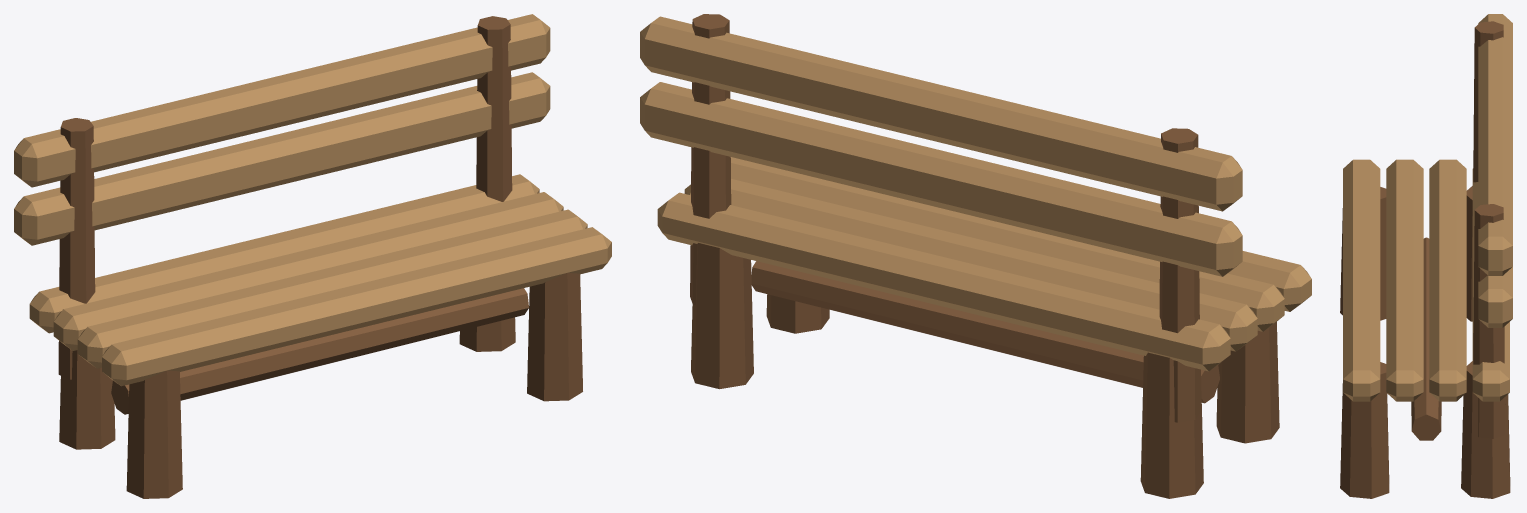
The model's file is CC_RestBench.fbx.
3 renders of one model, left to right at view 1: azimuth 30°, elevation 25°; view 2: azimuth 150°, elevation 25°; view 3: azimuth 270°, elevation 25°, orthographic. The views are drawn at different scales.
Visible parts, largest first — view 1: Back slat.003, Back slat.002, Plank.036, Plank.037, Plank.038, Plank.039, Brace.008, Leg.048, Leg.050, Back post, Back post.001, Leg.049 (+1 smaller); view 2: Back slat.003, Back slat.002, Plank.039, Plank.038, Brace.008, Plank.037, Leg.051, Leg.049, Leg.048, Back post, Back post.001, Plank.036 (+1 smaller); view 3: Plank.037, Plank.038, Plank.036, Back slat.003, Leg.050, Leg.051, Back post.001, Brace.008, Plank.039, Back slat.002, Back post, Leg.048 (+1 smaller).
Boxes of the visible parts, x1,y1,x2,y2 form: Back slat.003: (14,14,550,187); Back slat.002: (14,72,550,245); Plank.036: (102,227,611,386); Plank.037: (77,209,587,368); Plank.038: (53,192,563,350); Plank.039: (29,174,539,333); Brace.008: (111,288,528,414); Leg.048: (126,370,182,498); Leg.050: (527,273,582,401); Back post: (58,118,95,379); Back post.001: (476,16,512,201); Leg.049: (59,350,115,449); Back slat.003: (640,16,1242,211); Back slat.002: (640,82,1242,276); Plank.039: (657,192,1230,371); Plank.038: (684,179,1257,351); Brace.008: (751,261,1219,403); Plank.037: (730,157,1284,331); Leg.051: (691,243,753,389); Leg.049: (1140,352,1203,498); Leg.048: (1216,322,1279,443); Back post: (1159,128,1200,422); Back post.001: (690,14,731,305); Plank.036: (1228,251,1311,311); Plank.037: (1386,159,1423,401); Plank.038: (1429,159,1466,401); Plank.036: (1343,159,1380,401); Back slat.003: (1478,14,1512,275); Leg.050: (1340,362,1389,498); Leg.051: (1461,361,1510,498); Back post.001: (1473,204,1505,438); Brace.008: (1411,237,1441,440); Plank.039: (1472,168,1509,401); Back slat.002: (1478,267,1512,327); Back post: (1473,21,1503,182); Leg.048: (1340,187,1386,320).
Bounding box in the file's own units: 1.9 × 1.08 × 0.6.
